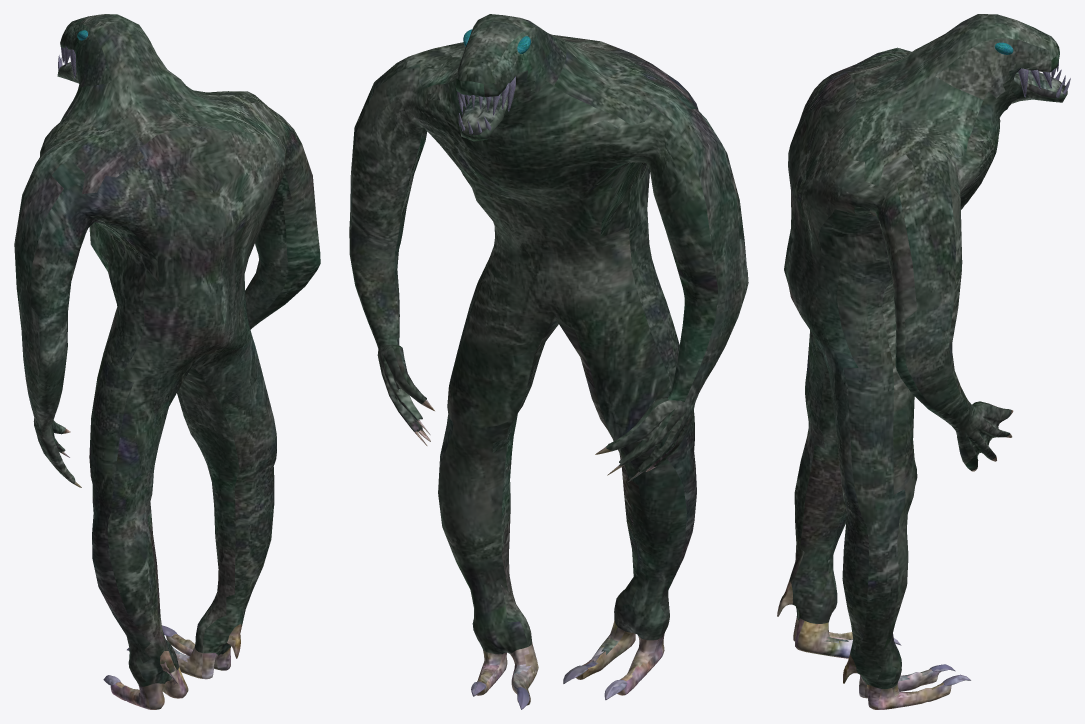
The model's file is Andar.0022.obj.
3 views of the same model, side by side, from view 1: azimuth 30°, elevation 25°; view 2: azimuth 150°, elevation 25°; view 3: azimuth 270°, elevation 25° (orthographic). The views are drawn at different scales.
Visible parts, largest first — view 1: polySurface28; view 2: polySurface28; view 3: polySurface28.
Boxes of the visible parts, box(x1,y1,x2,y2) form: polySurface28: box(14, 14, 320, 709); polySurface28: box(349, 14, 748, 709); polySurface28: box(777, 14, 1070, 709).
Size of the model in its own units: 1.22 by 2.34 by 0.9459.
Materials: 4 (4 with a texture image).
